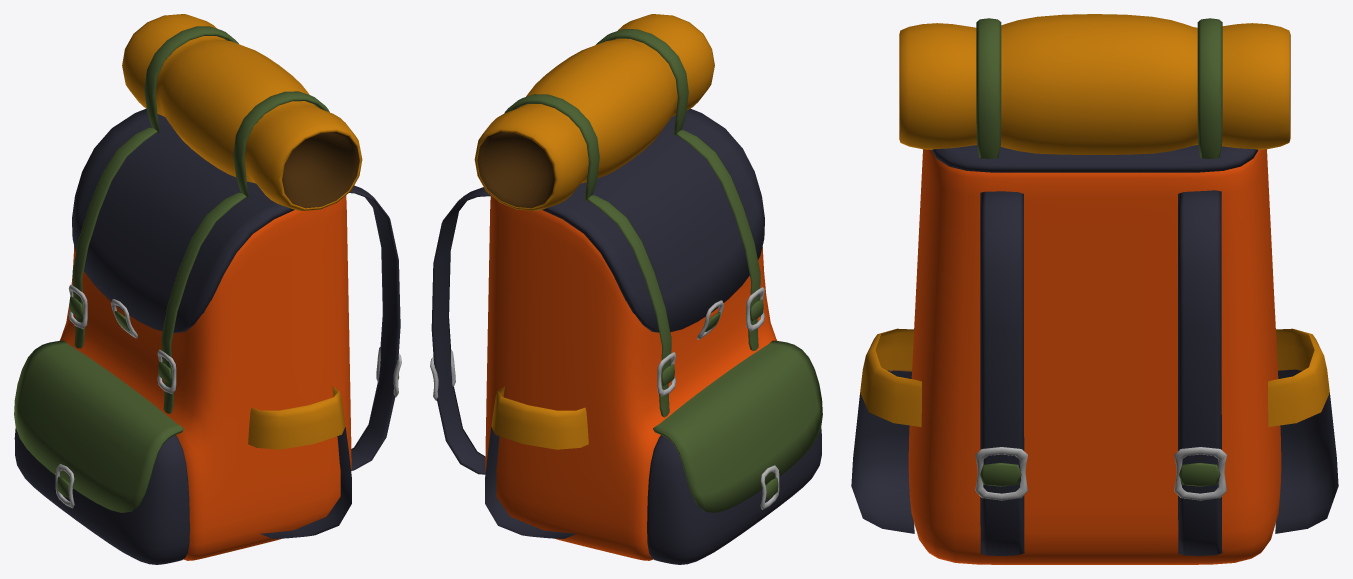
File: backpack.glb
3 views of the same model, side by side, from view 1: azimuth 30°, elevation 25°; view 2: azimuth 150°, elevation 25°; view 3: azimuth 270°, elevation 25° (orthographic). The views are drawn at different scales.
Parts seen in each view (by area): view 1: bag, sleepingbag, Plane.004; view 2: bag, sleepingbag, Plane.004; view 3: bag, sleepingbag, Plane.004.
Part boxes in pixels (left/top/right/bottom): bag: left=14, top=26, right=400, bottom=564; sleepingbag: left=122, top=14, right=362, bottom=210; Plane.004: left=55, top=284, right=401, bottom=508; bag: left=431, top=29, right=822, bottom=564; sleepingbag: left=474, top=14, right=714, bottom=210; Plane.004: left=430, top=287, right=779, bottom=509; bag: left=851, top=18, right=1338, bottom=564; sleepingbag: left=899, top=14, right=1290, bottom=154; Plane.004: left=975, top=447, right=1226, bottom=500.
Bounding box in the file's own units: 3.57 × 4.99 × 4.13.
6 materials, 2 textured.
